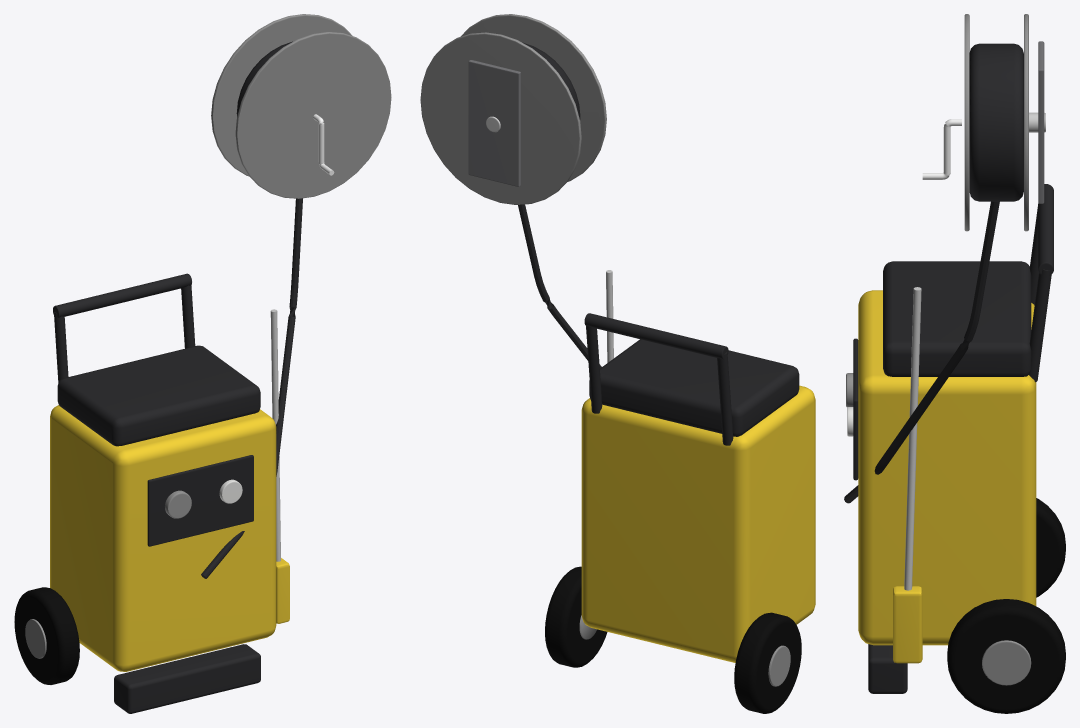
Rendered from industrial.workshop.pressure_washer.glb.
3 renders of one model, left to right at view 1: azimuth 30°, elevation 25°; view 2: azimuth 150°, elevation 25°; view 3: azimuth 270°, elevation 25°, orthographic. The views are drawn at different scales.
Parts seen in each view (by area): view 1: main__paint_ec3, main__paint_222, main__paint_999, main__rubber, main__galv_ccc; view 2: main__paint_ec3, main__paint_999, main__paint_222, main__rubber, main__galv_777, main__galv_ccc; view 3: main__paint_ec3, main__paint_222, main__rubber, main__paint_999, main__galv_ccc, main__galv_777, main__chrome_eee.
Part boxes in pixels (<box>): main__paint_ec3: <box>50,405,289,671</box>; main__paint_222: <box>53,41,302,713</box>; main__paint_999: <box>25,14,391,658</box>; main__rubber: <box>14,587,79,684</box>; main__galv_ccc: <box>270,309,280,561</box>; main__paint_ec3: <box>581,385,815,662</box>; main__paint_999: <box>420,14,790,686</box>; main__paint_222: <box>518,42,799,445</box>; main__rubber: <box>545,566,801,713</box>; main__galv_777: <box>468,60,520,186</box>; main__galv_ccc: <box>486,116,613,362</box>; main__paint_ec3: <box>858,290,1036,663</box>; main__paint_222: <box>844,43,1053,693</box>; main__rubber: <box>947,498,1065,713</box>; main__paint_999: <box>846,14,1031,685</box>; main__galv_ccc: <box>904,112,1045,590</box>; main__galv_777: <box>1038,41,1044,203</box>; main__chrome_eee: <box>922,119,961,179</box>.
Size of the model in its own units: 0.965 by 1.62 by 0.4488.
